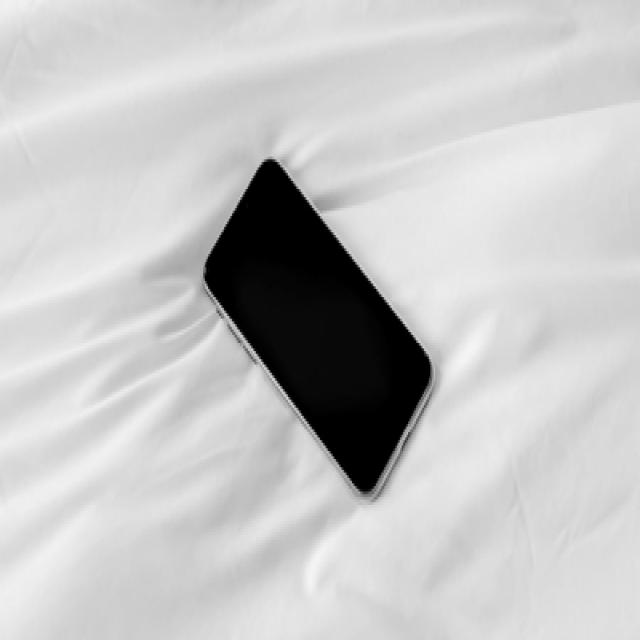cellphone: (202, 154, 435, 502)
